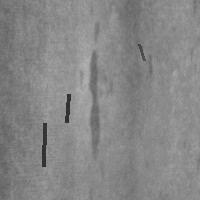inclusion: (81, 19, 111, 163), (140, 51, 156, 86), (41, 121, 46, 168), (64, 92, 70, 124), (137, 42, 146, 62)
